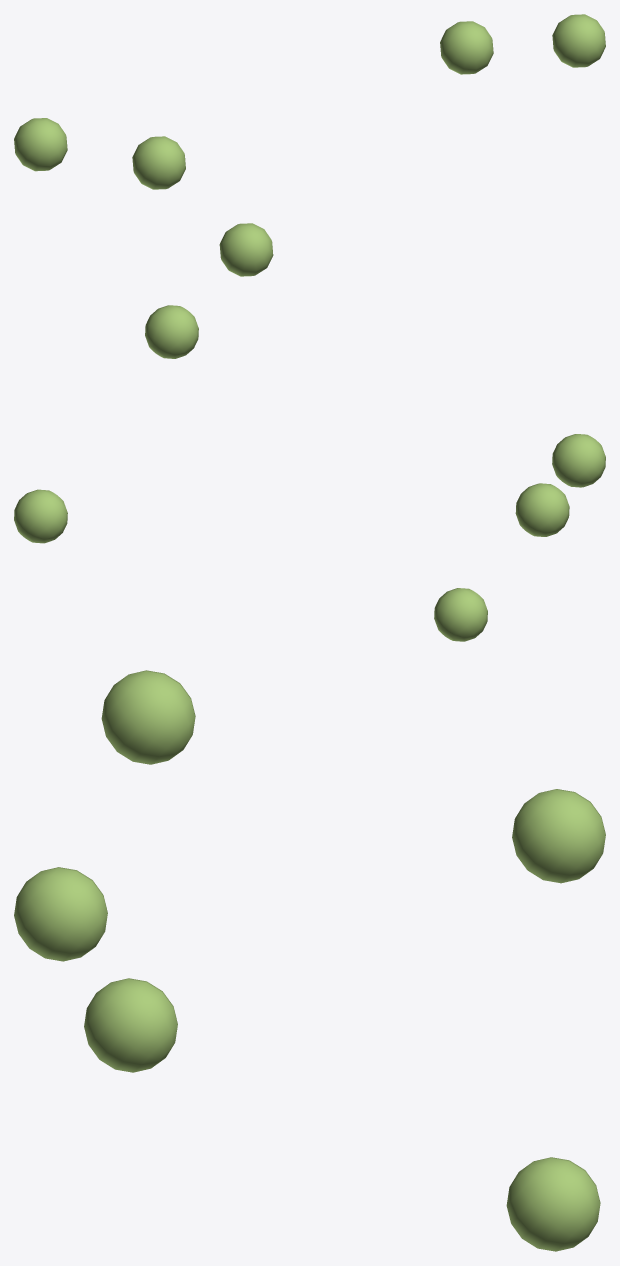
Rendered from superior-tracheobronchial-nodes.glb.
3 views of the same model, one above another, from view 1: azimuth 30°, elevation 25°; view 2: azimuth 150°, elevation 25°; view 3: azimuth 270°, elevation 25° (orthographic). The views are drawn at different scales.
Visible parts, largest first — view 1: Superior tracheobronchial nodes; view 2: Superior tracheobronchial nodes; view 3: Superior tracheobronchial nodes.
Boxes of the visible parts, x1,y1,x2,y2 form: Superior tracheobronchial nodes: (14,14,605,276); Superior tracheobronchial nodes: (14,305,605,641); Superior tracheobronchial nodes: (14,670,605,1251).
Bounding box in the file's own units: 0.0257 × 0.00817 × 0.0162.
